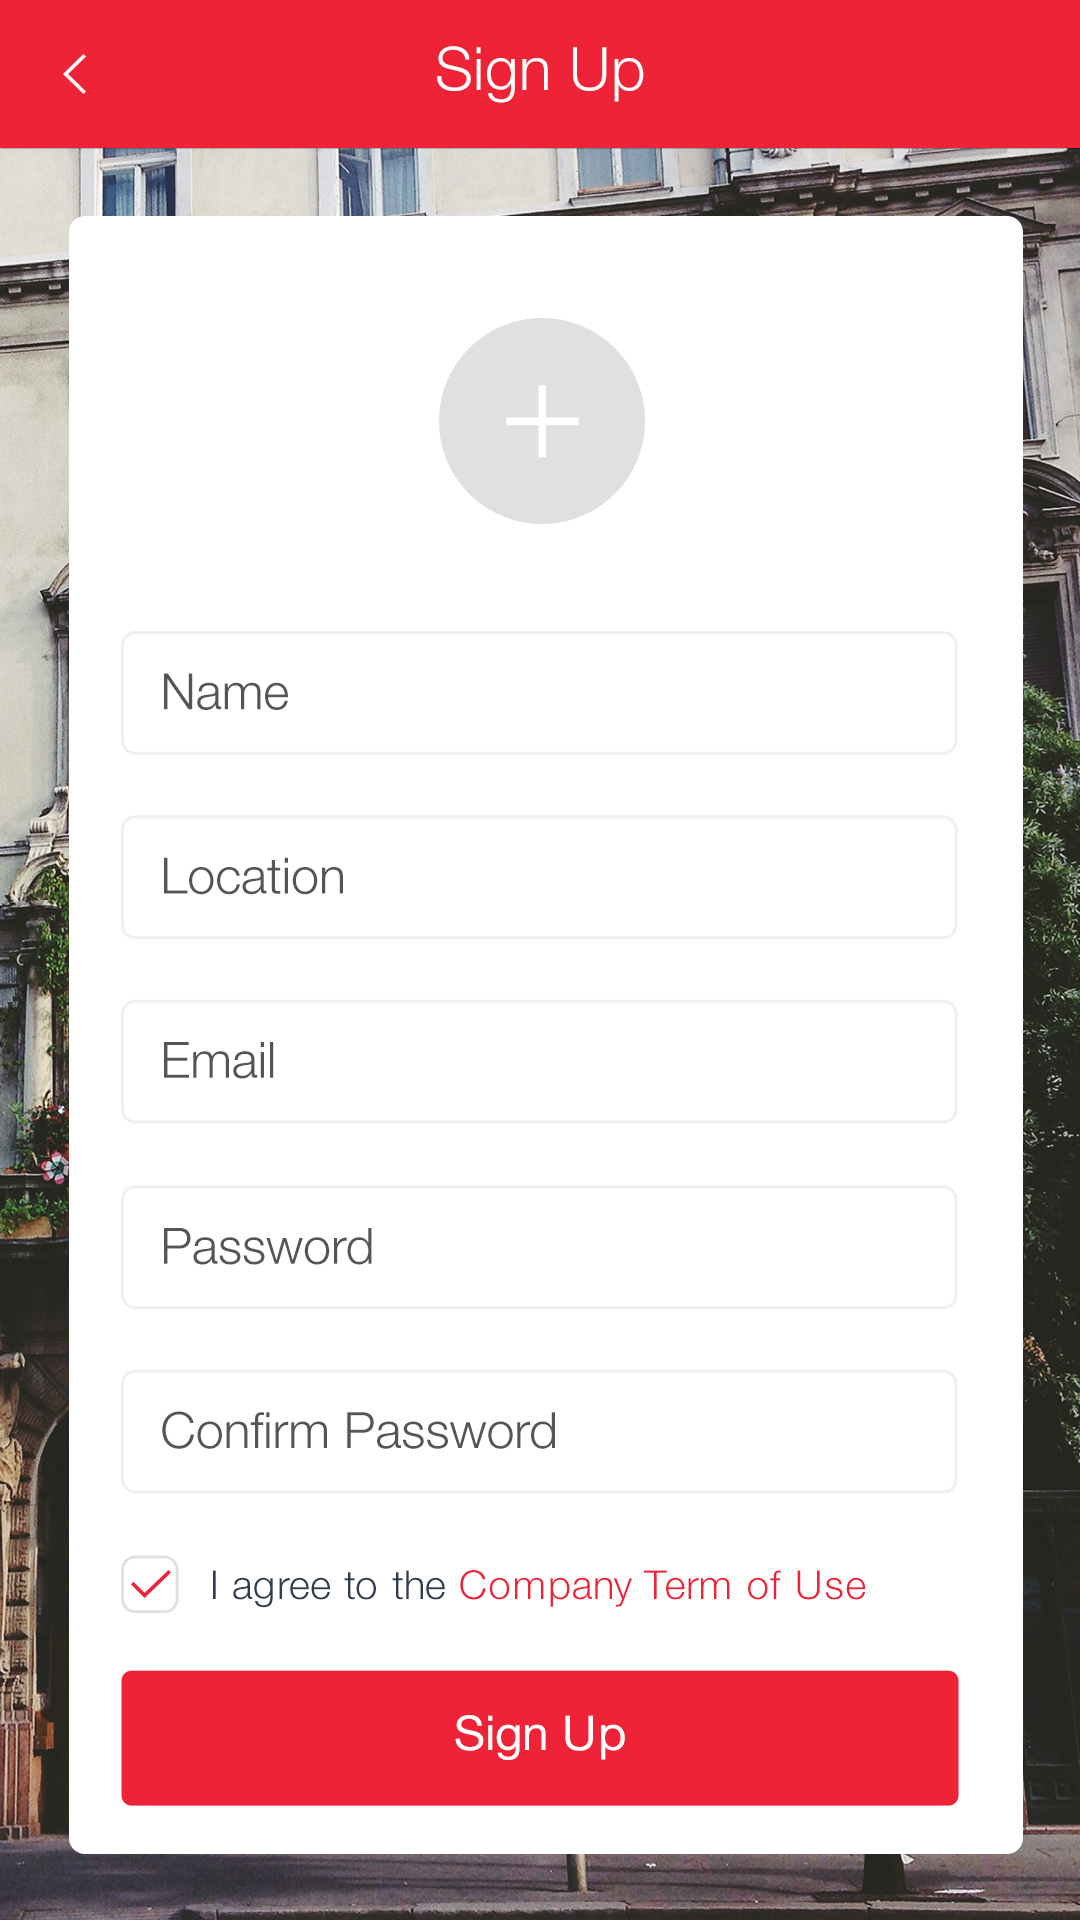CheckedTextView: (121, 1555, 866, 1614)
EditText: (121, 1000, 957, 1125), (123, 815, 957, 940), (121, 632, 957, 756), (121, 1370, 957, 1494), (123, 1185, 957, 1309)
Icon: (439, 318, 646, 525), (63, 54, 88, 96)
Text: (214, 1568, 866, 1609), (162, 1411, 556, 1451), (436, 46, 645, 105), (164, 1226, 373, 1266), (164, 858, 343, 895), (165, 674, 289, 711), (164, 1040, 276, 1079)
TextButton: (123, 1669, 960, 1807)
